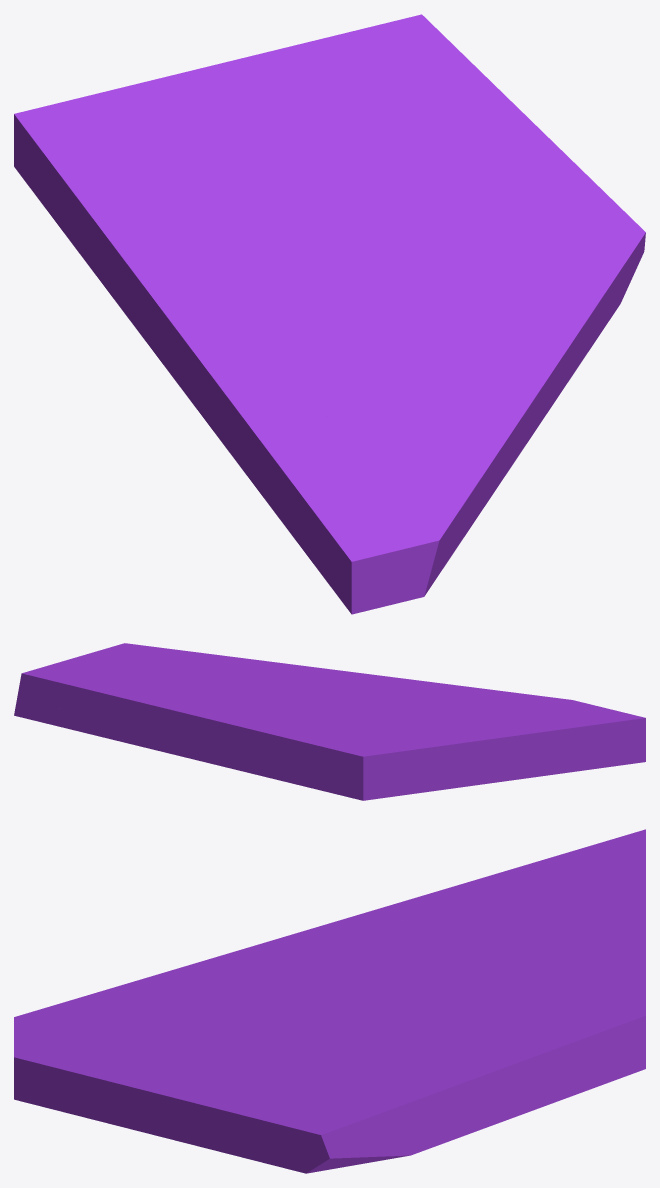
Rendered from Window_158_1_chunks.fbx.
3 renders of one model, top to bottom at view 1: azimuth 30°, elevation 25°; view 2: azimuth 150°, elevation 25°; view 3: azimuth 270°, elevation 25°, orthographic. The views are drawn at different scales.
Parts seen in each view (by area): view 1: Window_158_1_1, Window_158_1_12, Window_158_1_17, Window_158_1_2, Window_158_1_7, Window_158_1_21, Window_158_1_13, Window_158_1_23, Window_158_1_10, Window_158_1_11, Window_158_1_9, Window_158_1_15 (+8 smaller); view 2: Window_158_1_12, Window_158_1_17, Window_158_1_1, Window_158_1_24, Window_158_1_13, Window_158_1_11, Window_158_1_2, Window_158_1_27, Window_158_1_21, Window_158_1_7, Window_158_1_15, Window_158_1_23 (+7 smaller); view 3: Window_158_1_1, Window_158_1_12, Window_158_1_7, Window_158_1_11, Window_158_1_2, Window_158_1_9, Window_158_1_17, Window_158_1_10, Window_158_1_23, Window_158_1_21, Window_158_1_8, Window_158_1_13 (+9 smaller).
Boxes of the visible parts, x1,y1,x2,y2 form: Window_158_1_1: (278,396,520,614); Window_158_1_12: (268,14,475,192); Window_158_1_17: (14,108,229,287); Window_158_1_2: (211,277,494,396); Window_158_1_7: (422,247,593,447); Window_158_1_21: (105,171,300,297); Window_158_1_13: (113,272,255,451); Window_158_1_23: (287,169,469,282); Window_158_1_10: (452,130,594,266); Window_158_1_11: (408,67,533,220); Window_158_1_9: (555,182,645,352); Window_158_1_15: (229,382,347,527); Window_158_1_12: (18,666,260,734); Window_158_1_17: (284,720,440,800); Window_158_1_1: (397,677,645,769); Window_158_1_24: (192,716,342,788); Window_158_1_13: (436,726,554,789); Window_158_1_11: (14,658,219,740); Window_158_1_2: (319,680,470,728); Window_158_1_27: (115,704,195,758); Window_158_1_21: (268,708,462,790); Window_158_1_7: (214,657,379,689); Window_158_1_15: (466,709,591,775); Window_158_1_23: (214,676,327,708); Window_158_1_1: (14,976,212,1124); Window_158_1_12: (437,945,645,1044); Window_158_1_7: (146,1033,359,1160); Window_158_1_11: (386,1020,645,1109); Window_158_1_2: (181,933,392,1072); Window_158_1_9: (243,1094,413,1173); Window_158_1_17: (472,829,645,935); Window_158_1_10: (307,1045,473,1114); Window_158_1_23: (325,962,498,1051); Window_158_1_21: (392,881,497,972); Window_158_1_8: (412,1073,514,1154); Window_158_1_13: (218,895,422,961).
Bounding box in the file's own units: 919 × 482 × 1165.
